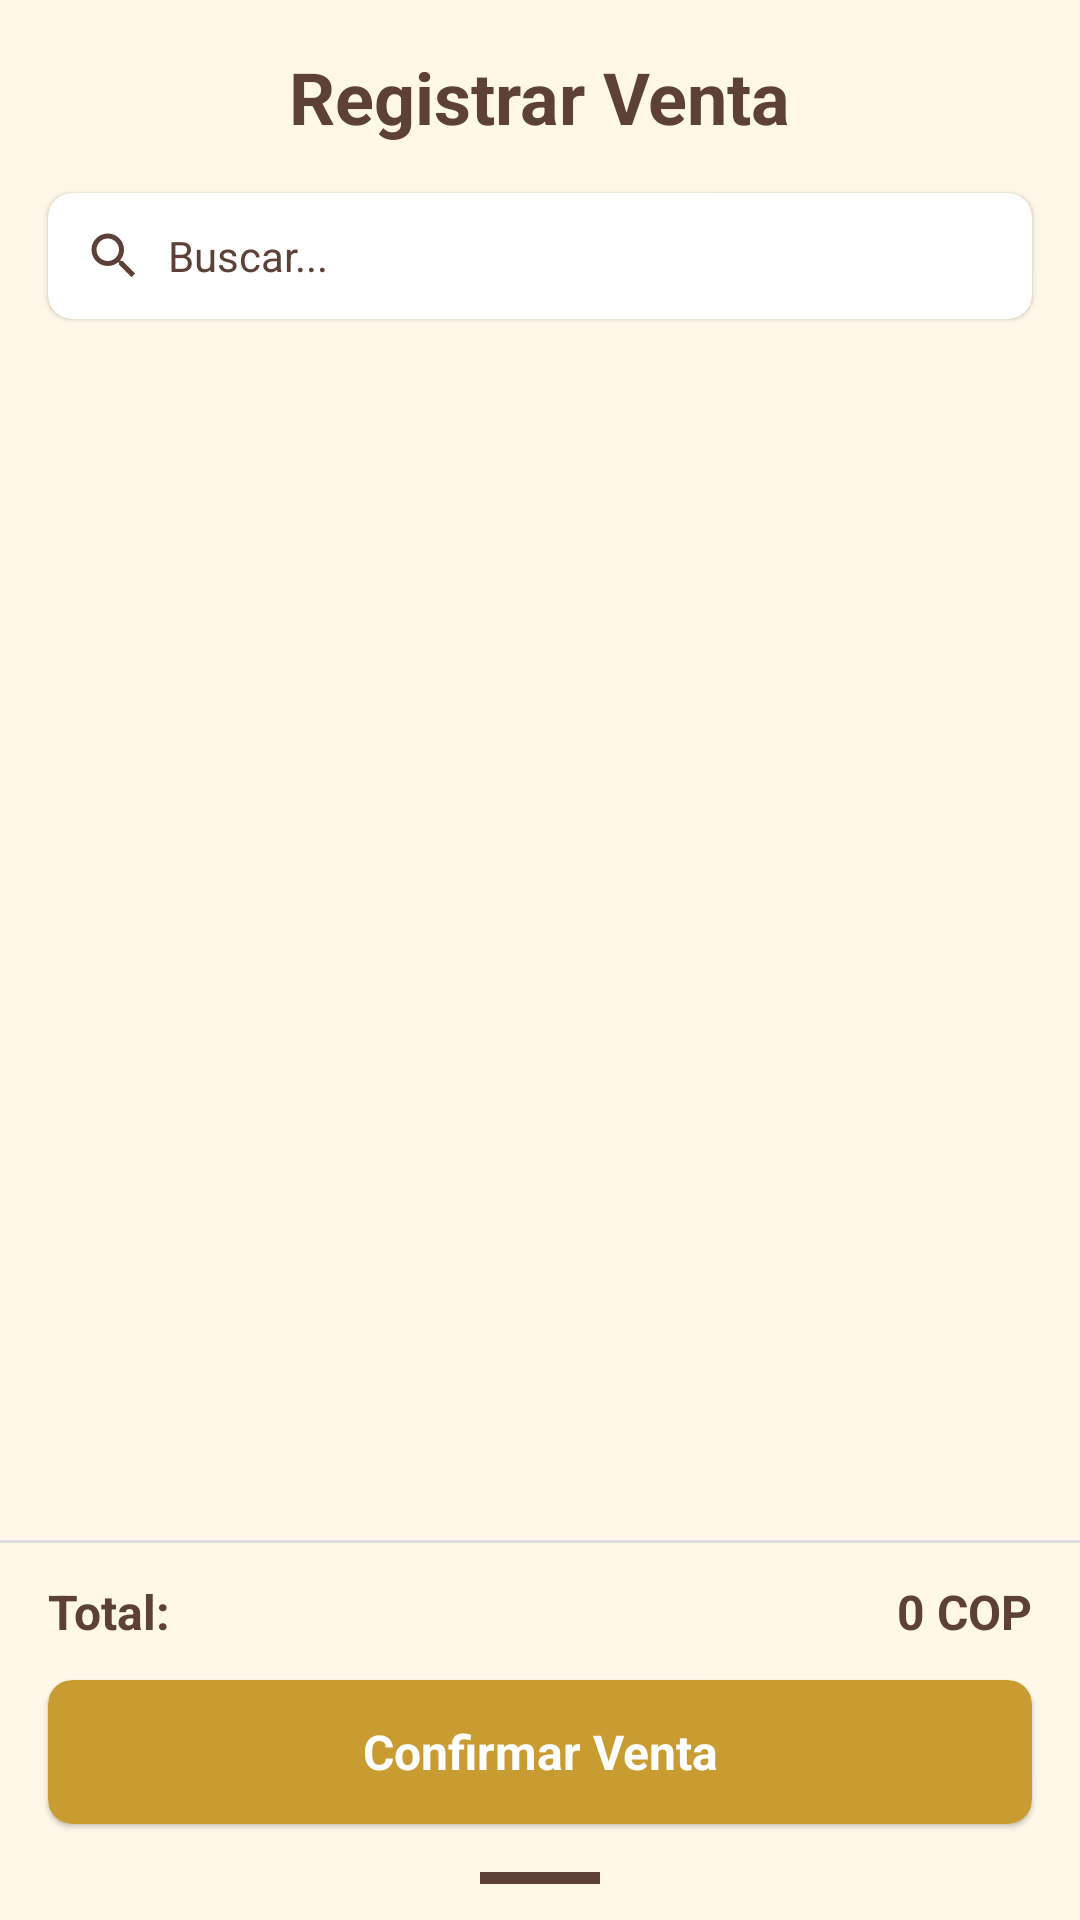

Icon click points for this 1080w x 1920h phone screenshot, format point (x, y):
search: point (113, 255)
